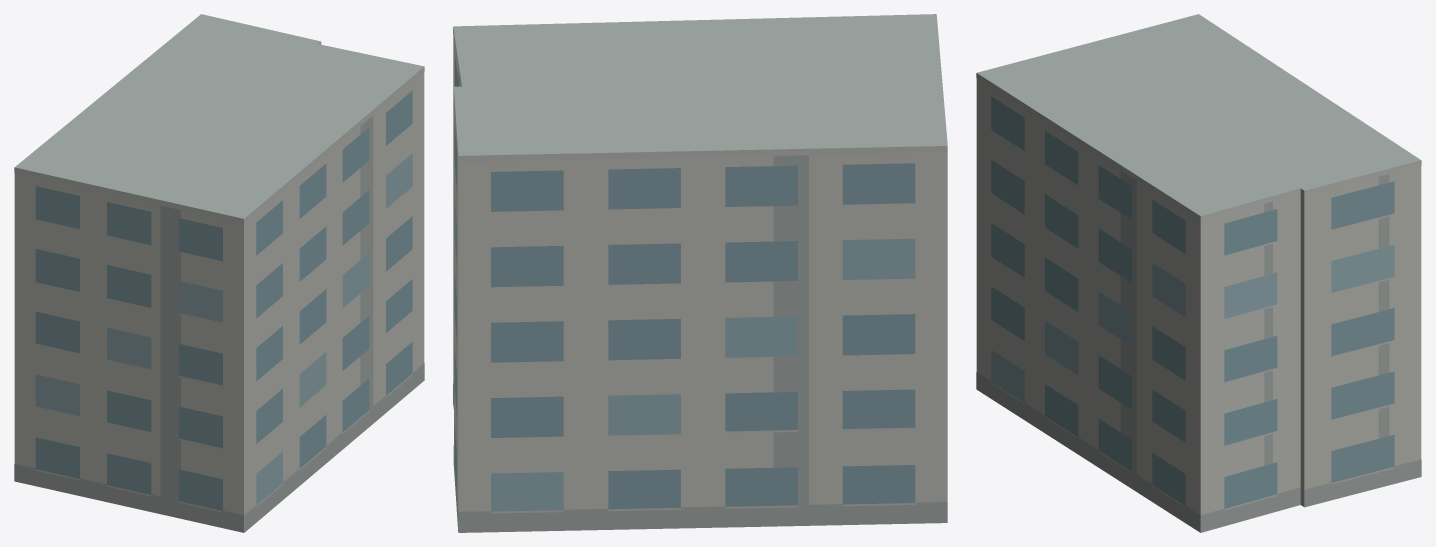
File: survey-upis-32885279.glb
3 renders of one model, left to right at view 1: azimuth 30°, elevation 25°; view 2: azimuth 150°, elevation 25°; view 3: azimuth 270°, elevation 25°, orthographic. The views are drawn at different scales.
Visible parts, largest first — view 1: survey-upis-32885279.tmp; view 2: survey-upis-32885279.tmp; view 3: survey-upis-32885279.tmp.
Part boxes in pixels (<box>): survey-upis-32885279.tmp: <box>14,14,424,532</box>; survey-upis-32885279.tmp: <box>453,14,947,532</box>; survey-upis-32885279.tmp: <box>976,14,1421,532</box>.
Size of the model in its own units: 19.32 by 14.1 by 17.96.
